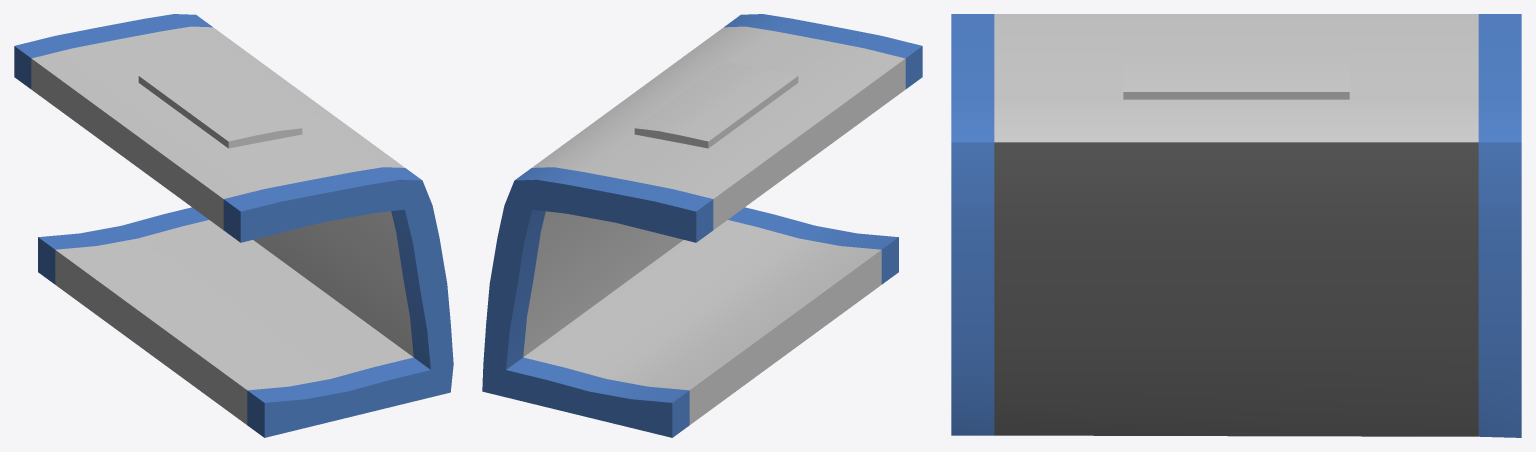
File: AlarmClock.fbx
3 renders of one model, left to right at view 1: azimuth 30°, elevation 25°; view 2: azimuth 150°, elevation 25°; view 3: azimuth 270°, elevation 25°, orthographic. The views are drawn at different scales.
Parts seen in each view (by area): view 1: AlarmClock; view 2: AlarmClock; view 3: AlarmClock.
Part boxes in pixels (bbox=[...]): AlarmClock: bbox=[14, 14, 453, 437]; AlarmClock: bbox=[482, 14, 922, 437]; AlarmClock: bbox=[951, 14, 1521, 437].
Bounding box in the file's own units: 0.09 × 0.0959 × 0.165.
